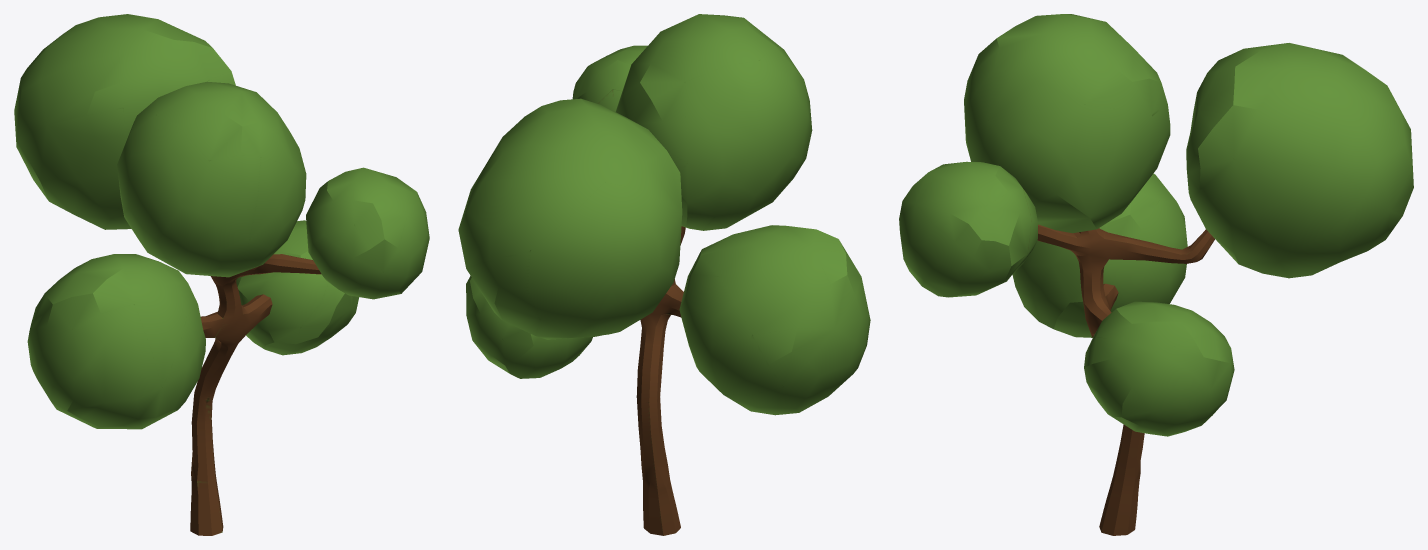
File: tree.fbx
3 renders of one model, left to right at view 1: azimuth 30°, elevation 25°; view 2: azimuth 150°, elevation 25°; view 3: azimuth 270°, elevation 25°, orthographic. The views are drawn at different scales.
Parts seen in each view (by area): view 1: Tree; view 2: Tree; view 3: Tree.
Part boxes in pixels (bbox=[...]): Tree: bbox=[14, 14, 429, 535]; Tree: bbox=[458, 14, 870, 535]; Tree: bbox=[899, 14, 1413, 535].
Size of the model in its own units: 8.41 by 10.42 by 11.05.
